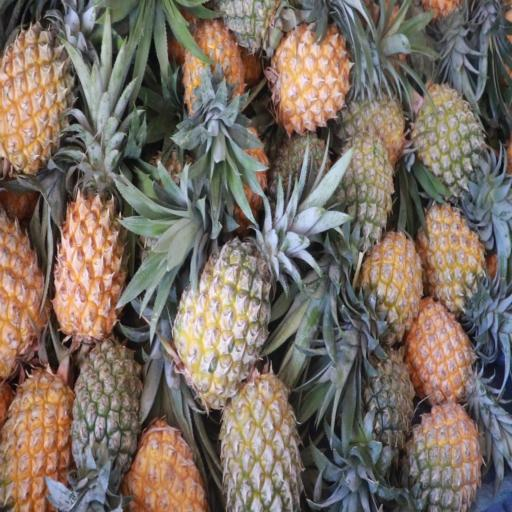------------------------------: (174, 244, 268, 403), (223, 381, 301, 512)
Pineapple - v8 v1: (56, 192, 124, 348), (0, 28, 75, 166), (0, 367, 70, 512), (273, 30, 350, 129), (0, 204, 49, 356), (125, 420, 202, 512), (420, 203, 484, 312), (410, 300, 475, 403), (360, 231, 422, 338), (184, 21, 244, 117)
